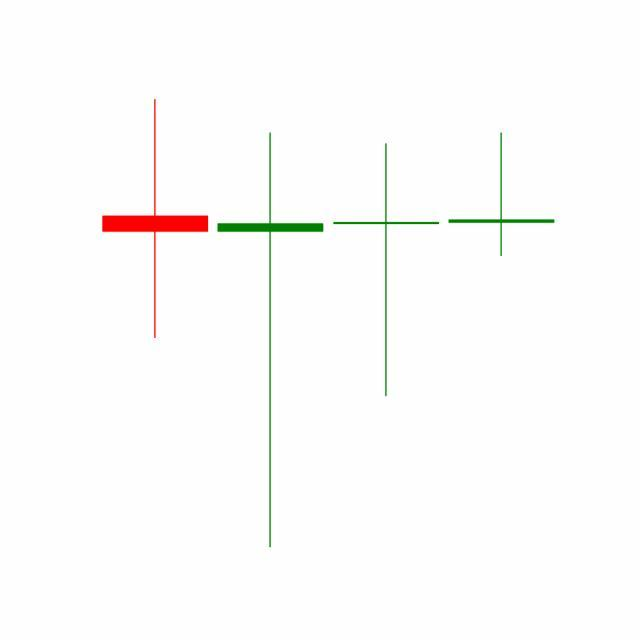Spinning Top: (329, 141, 445, 400)
